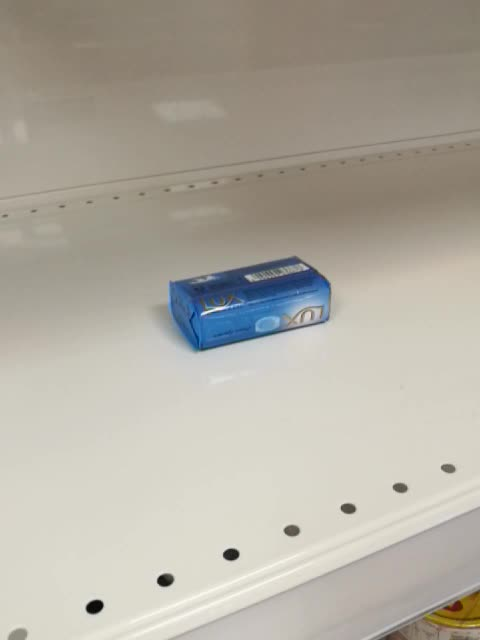soap: (167, 252, 333, 354)
